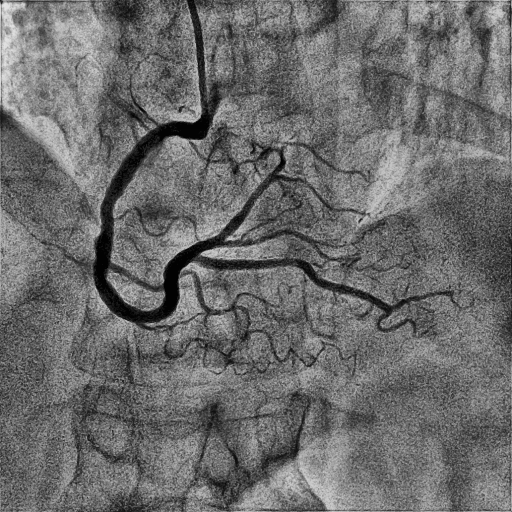pborca: (194, 148, 286, 253)
pda: (192, 255, 465, 312)
rca: (93, 119, 206, 323)
